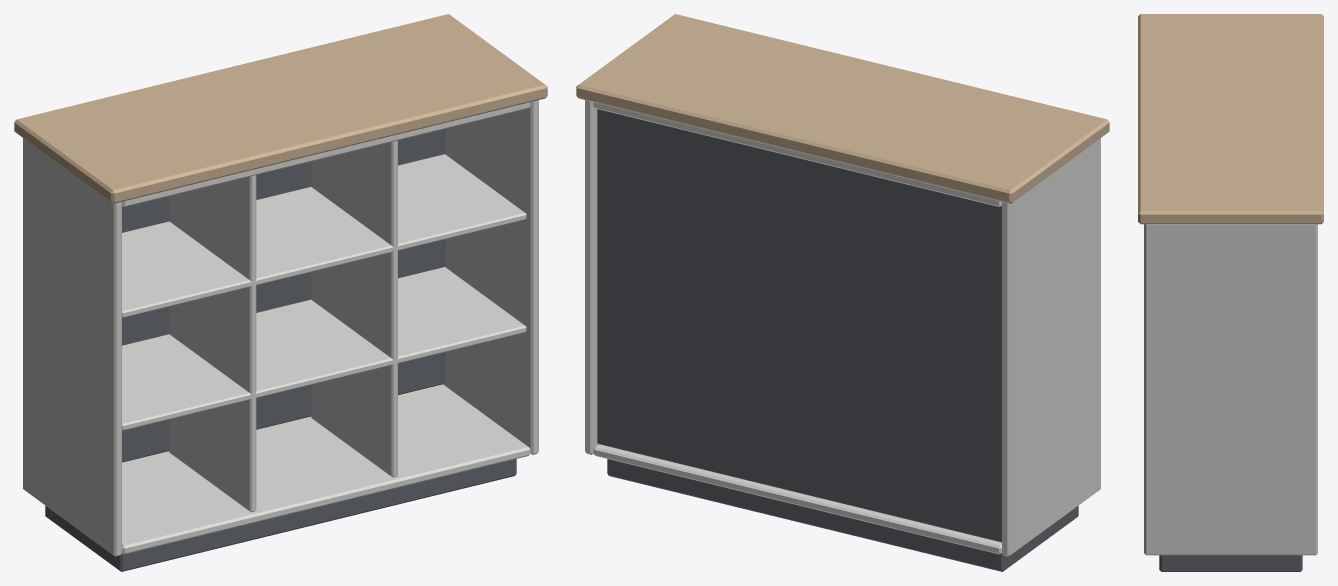
The model's file is office-lobby-and-facilities-visitor-cubby-unit-e0aa7c92__26156.glb.
3 renders of one model, left to right at view 1: azimuth 30°, elevation 25°; view 2: azimuth 150°, elevation 25°; view 3: azimuth 270°, elevation 25°, orthographic. The views are drawn at different scales.
Visible parts, largest first — view 1: visitor-cubby-unit; view 2: visitor-cubby-unit; view 3: visitor-cubby-unit.
Part boxes in pixels (x1,y1,x2,y2): visitor-cubby-unit: [14, 14, 547, 571]; visitor-cubby-unit: [576, 14, 1109, 571]; visitor-cubby-unit: [1138, 14, 1323, 571].
Size of the model in its own units: 0.924 by 0.798 by 0.364.
